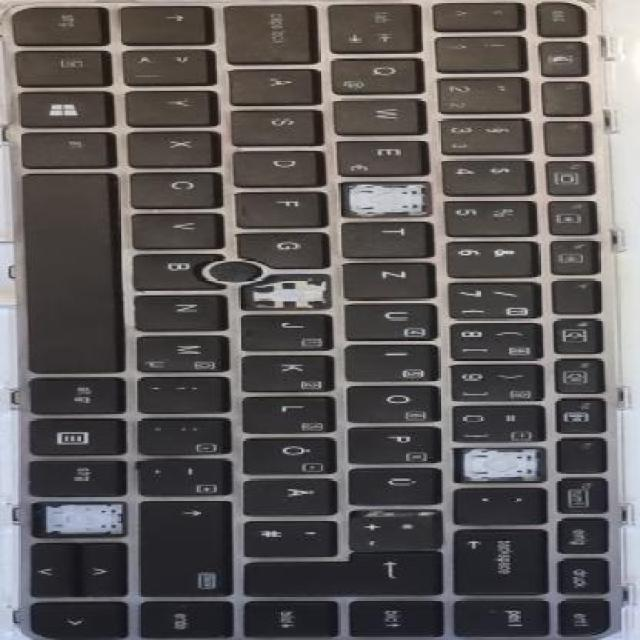Keyboard problems: (243, 275, 328, 308), (343, 183, 429, 215), (40, 503, 125, 535), (463, 449, 540, 478)
